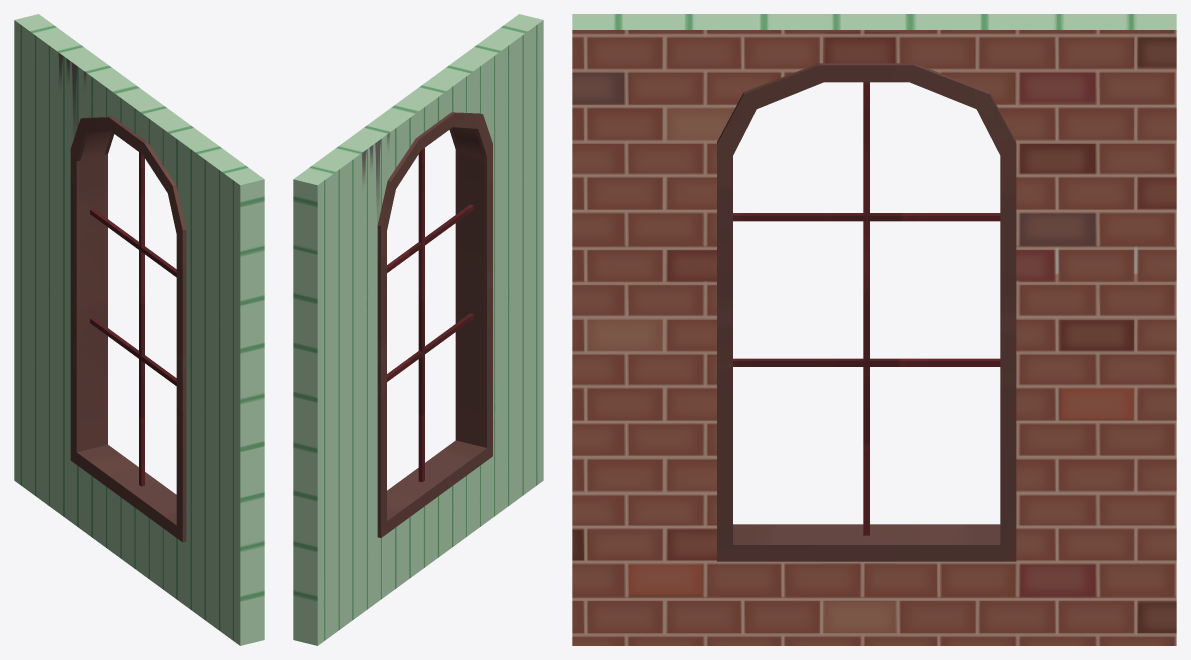
Rendered from bigWindow.fbx.
The picture shows the model from 3 angles, left to right: view 1: azimuth 30°, elevation 25°; view 2: azimuth 150°, elevation 25°; view 3: azimuth 270°, elevation 25°; orthographic projection. The views are drawn at different scales.
Parts seen in each view (by area): view 1: bigWindow; view 2: bigWindow; view 3: bigWindow.
Boxes of the visible parts, x1,y1,x2,y2 form: bigWindow: [14, 14, 264, 645]; bigWindow: [293, 14, 543, 645]; bigWindow: [572, 14, 1176, 645].
Size of the model in its own units: 0.3213 by 4.5 by 4.
